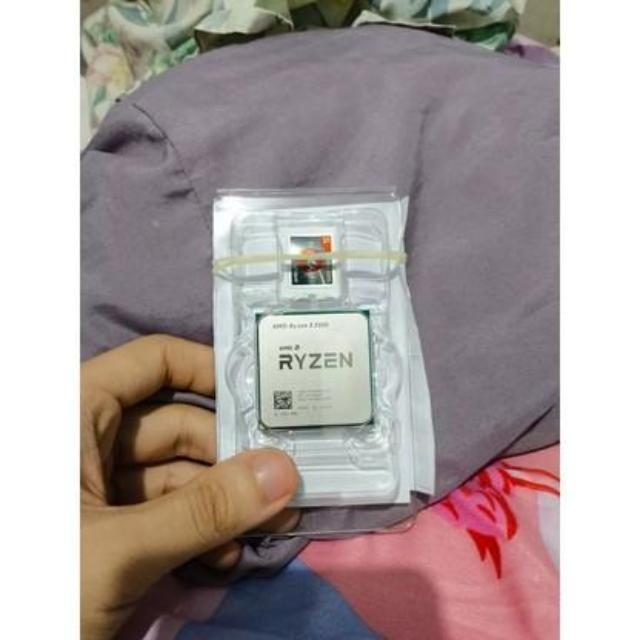CPU: (254, 317, 376, 423)
